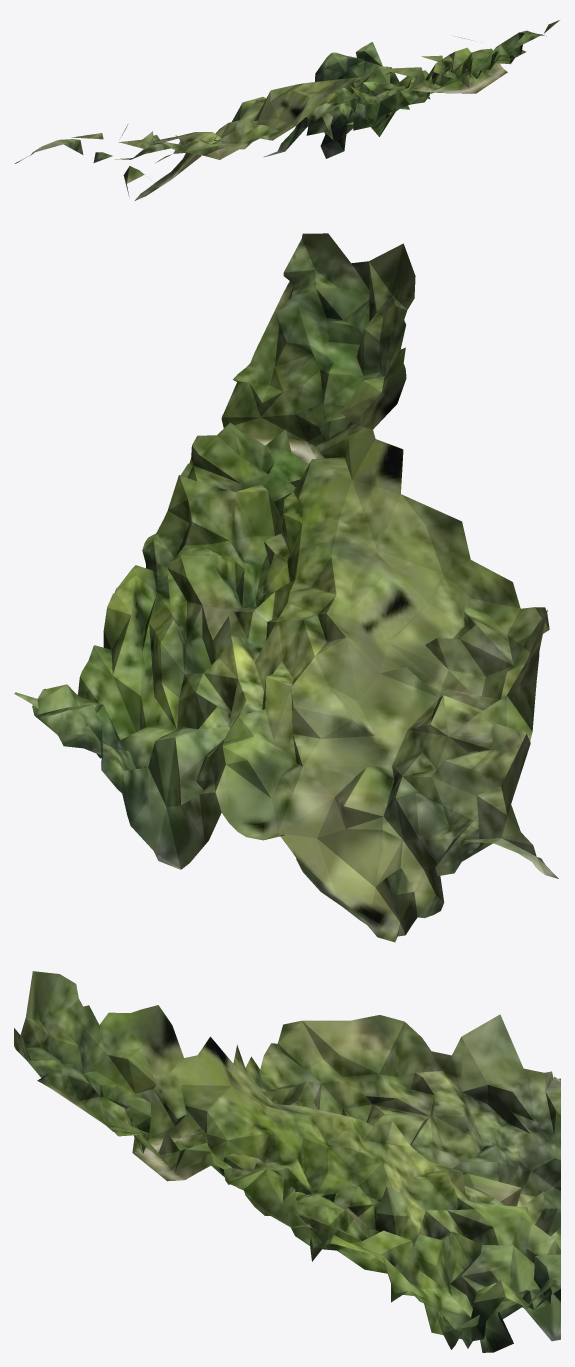
The picture shows the model from 3 angles, top to bottom: view 1: azimuth 30°, elevation 25°; view 2: azimuth 150°, elevation 25°; view 3: azimuth 270°, elevation 25°; orthographic projection. The views are drawn at different scales.
Bounding box in the file's own units: 237 × 178 × 217.
Materials: 1 (1 with a texture image).
